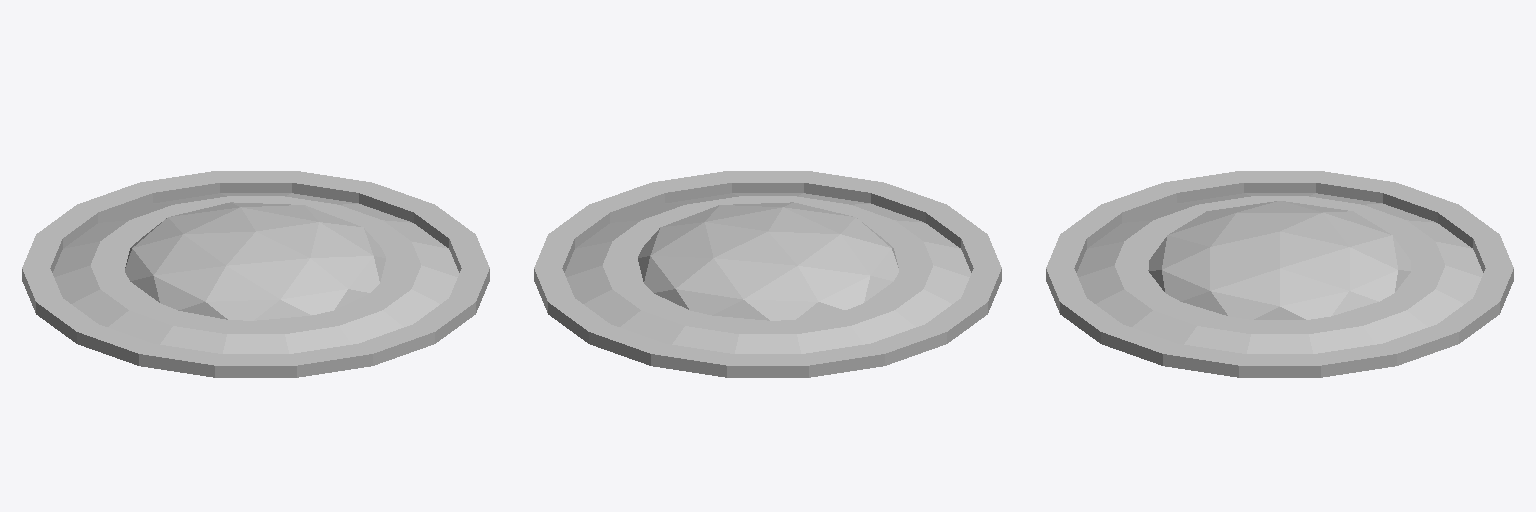
The model's file is top_light.obj.
3 views of the same model, side by side, from view 1: azimuth 30°, elevation 25°; view 2: azimuth 150°, elevation 25°; view 3: azimuth 270°, elevation 25° (orthographic).
Visible parts, largest first — view 1: Icosphere; view 2: Icosphere; view 3: Icosphere.
Boxes of the visible parts, x1=… form: Icosphere: x1=22, y1=171, x2=489, y2=377; Icosphere: x1=534, y1=171, x2=1001, y2=377; Icosphere: x1=1046, y1=171, x2=1513, y2=377.
Size of the model in its own units: 10.07 by 1.18 by 10.23.